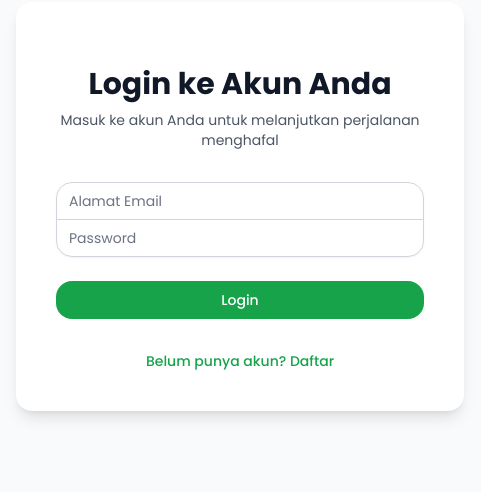
Test case: Login Page › registration failure displays error message
The image size is (481, 492).
Click the button "Belum punya akun? Daftar" at (240, 360), box [146,350,334,370]
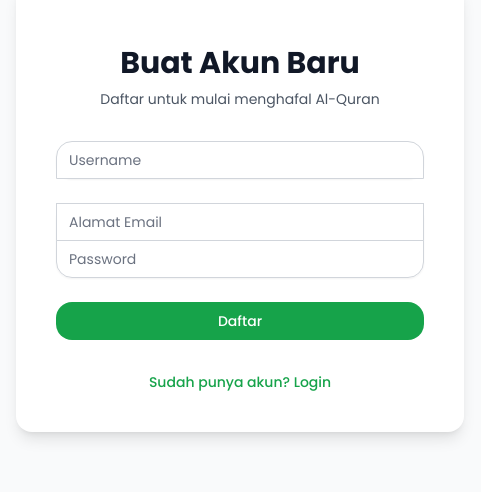
Type "existinguser" into the field with placeholder "Username" at (240, 160), box [56,140,424,178]
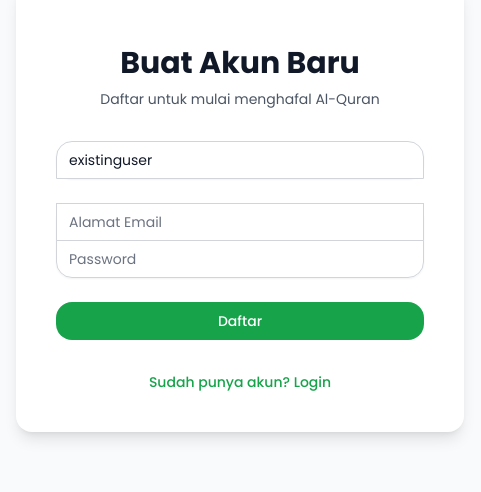
Type "existing@example.com" into the field with placeholder "Alamat Email" at (240, 222), box [56,202,424,240]
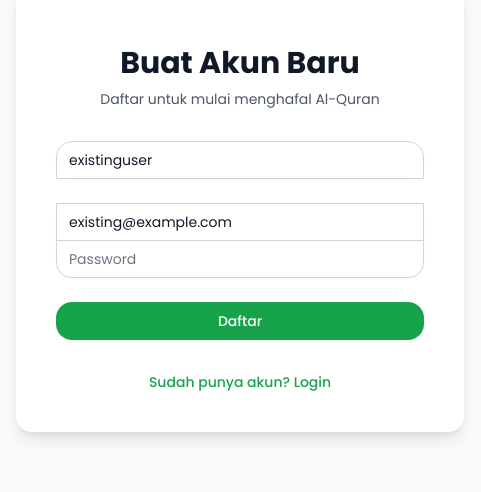
Type "password123" into the password field with placeholder "Password" at (240, 258), box [56,240,424,278]
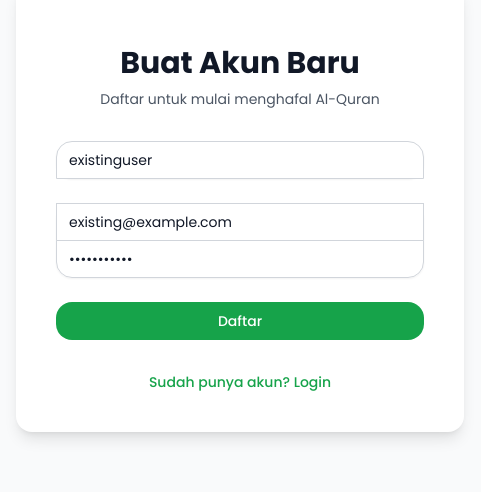
Click the button "Daftar" at (240, 320), box [56,302,424,340]
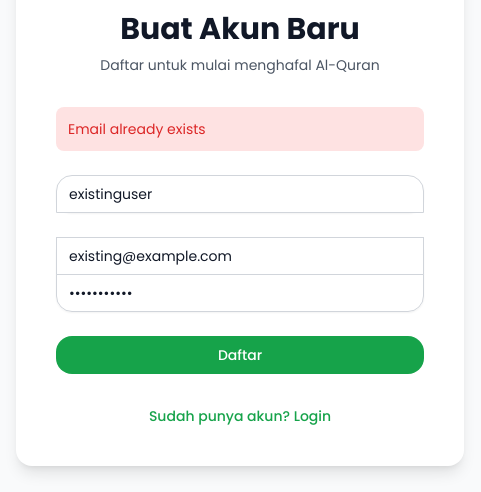
expect the text "Email already exists" is shown: met, box [56,106,424,150]
